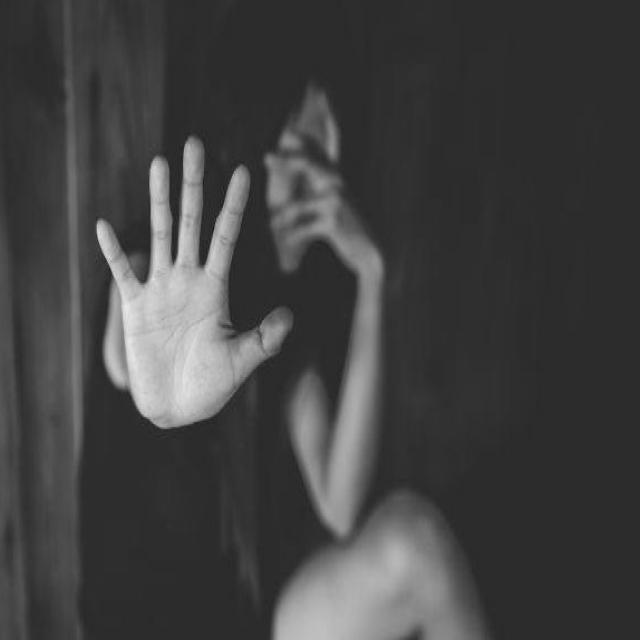stop: (94, 129, 298, 436)
